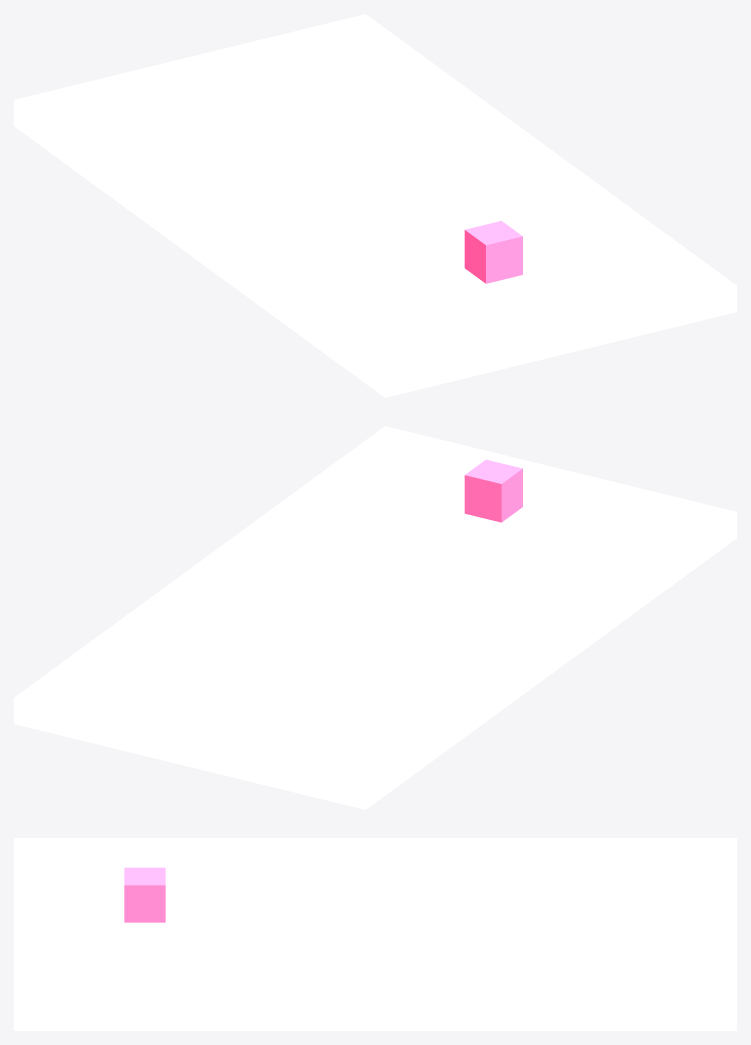
The model's file is gmtkjam.gltf.
3 views of the same model, one above another, from view 1: azimuth 30°, elevation 25°; view 2: azimuth 150°, elevation 25°; view 3: azimuth 270°, elevation 25° (orthographic). The views are drawn at different scales.
Visible parts, largest first — view 1: ground, player; view 2: ground, player; view 3: ground, player.
Part boxes in pixels (x1,y1,x2,y2): ground: (14, 14, 736, 397); player: (464, 221, 522, 283); ground: (14, 426, 736, 809); player: (464, 459, 522, 522); ground: (14, 838, 736, 1030); player: (124, 867, 165, 922).
Bounding box in the file's own units: 9.74 × 1.92 × 17.79.
